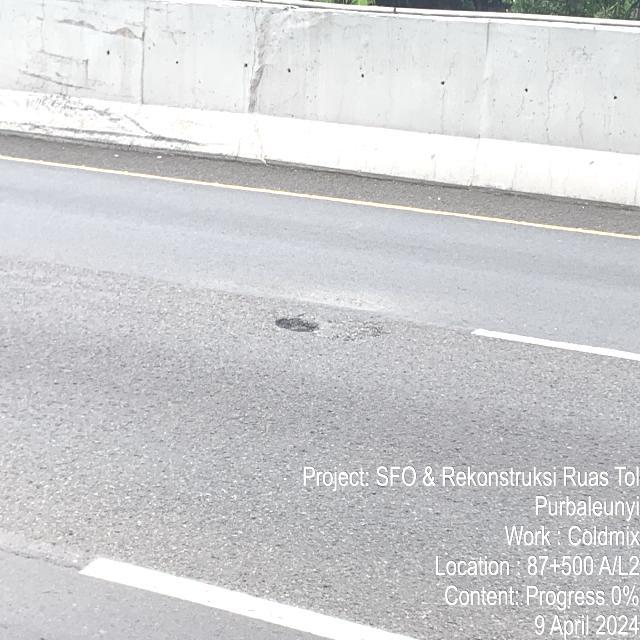Buraco: (272, 315, 323, 335)
